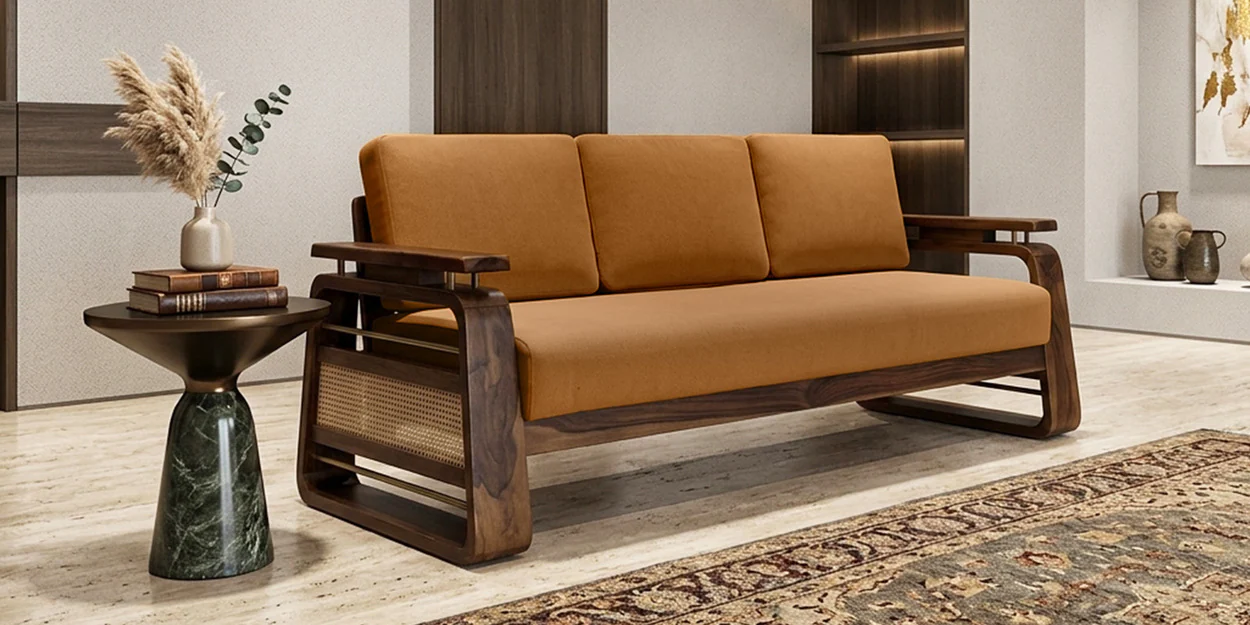3seatersofa: (300, 135, 1078, 562)
backrest: (361, 134, 908, 297), (352, 196, 373, 242)
base: (525, 348, 1042, 454)
leftarmrest: (904, 214, 1057, 232)
leg: (294, 257, 532, 571), (855, 230, 1082, 442)
rightarmrest: (312, 241, 509, 276)
seat: (511, 271, 1044, 419), (375, 308, 456, 340)
